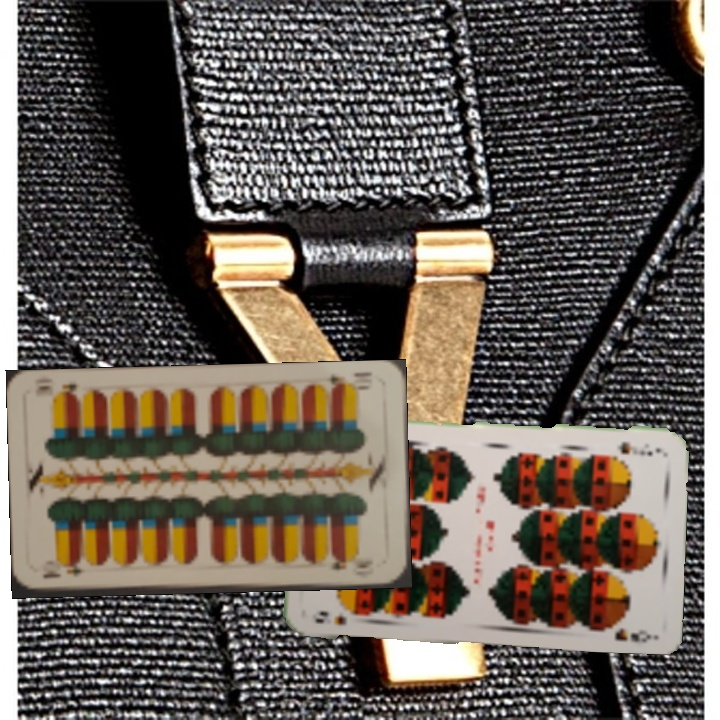E10: (326, 367, 375, 395), (39, 561, 88, 581)
S9: (615, 437, 663, 459), (311, 607, 349, 627)
